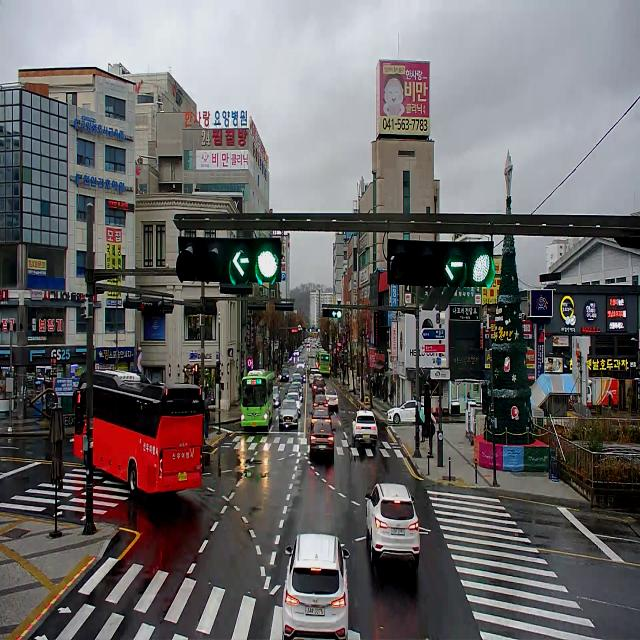Bus: (73, 369, 204, 494), (241, 370, 273, 430), (318, 352, 330, 374), (316, 349, 325, 367)
Car: (282, 535, 349, 640), (365, 483, 420, 563), (387, 397, 424, 424), (352, 409, 378, 440), (310, 421, 336, 452), (279, 398, 298, 426), (313, 394, 329, 416), (287, 392, 301, 415), (325, 388, 338, 408), (312, 379, 326, 397), (285, 386, 301, 401), (291, 382, 303, 398), (310, 369, 320, 384), (308, 356, 316, 374), (296, 368, 305, 382), (280, 368, 289, 381), (274, 386, 280, 405), (292, 373, 302, 384), (312, 374, 323, 384), (297, 361, 304, 368), (293, 350, 299, 357), (306, 343, 310, 347)
